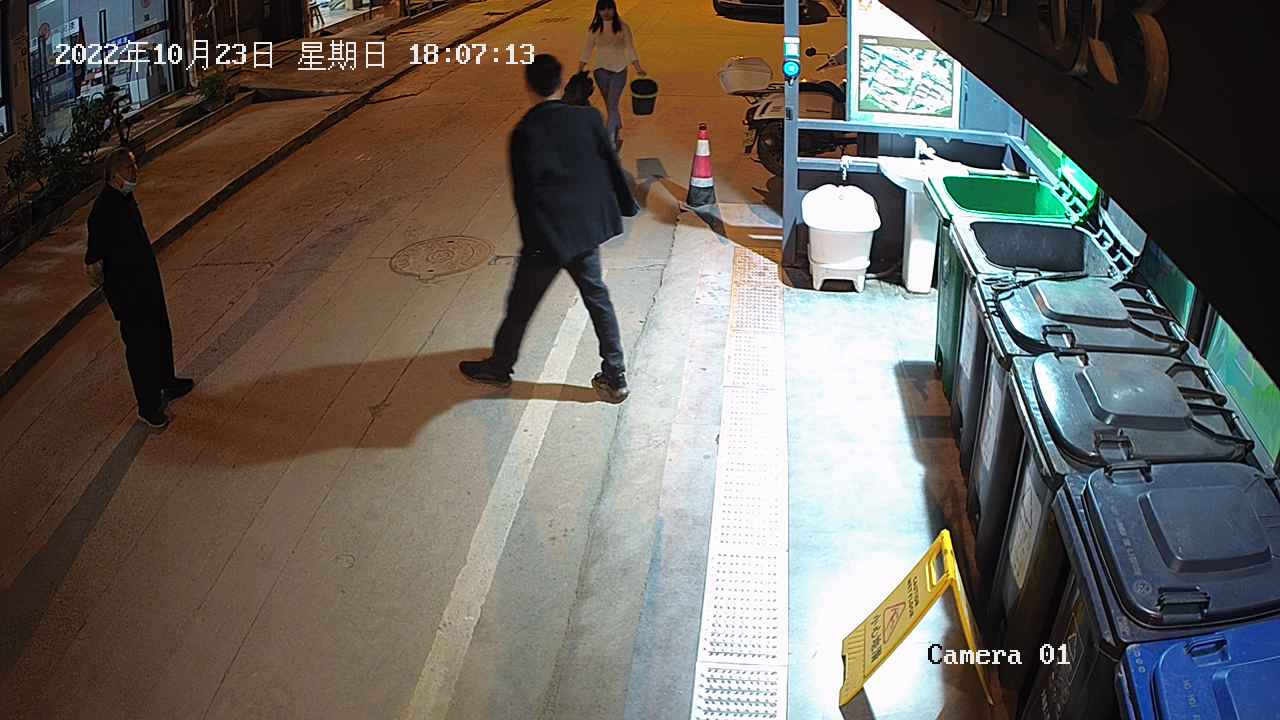garbage-bag: (559, 70, 596, 107)
person: (456, 52, 642, 405), (83, 145, 196, 431), (579, 1, 647, 165)
youtong: (627, 75, 661, 117)
